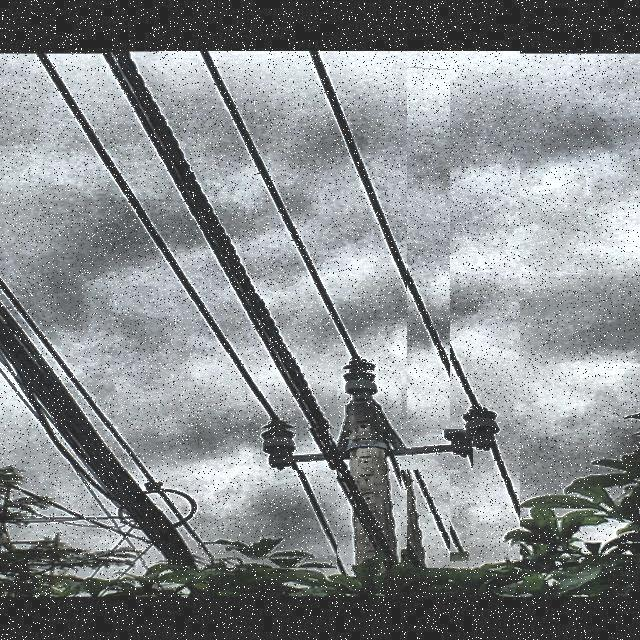crossarm: (260, 428, 473, 470)
pole: (337, 369, 401, 576)
wire: (108, 51, 407, 558), (190, 52, 450, 557), (301, 51, 520, 550)
